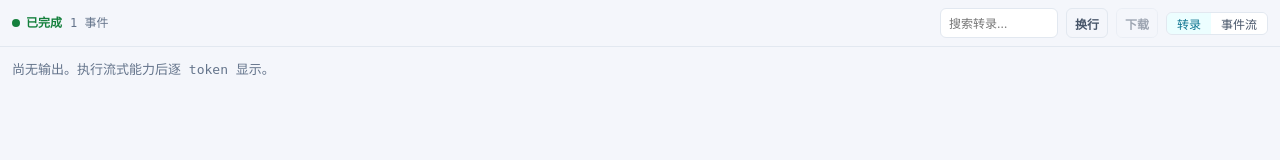
Scenario: SseConsole › 切到事件流后按顺序展示原始命名事件，空 token 时下载禁用
Step 1. Click the tab "事件流" → coordinates (1239, 23), box [1211,12,1267,34]
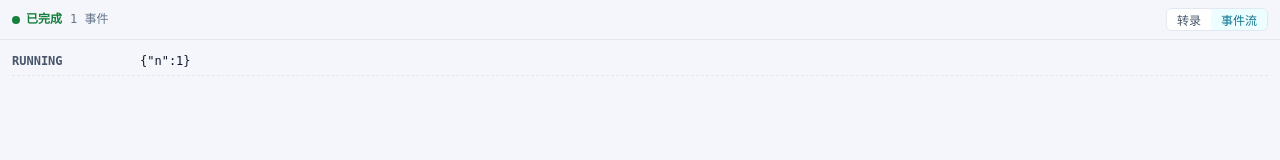
Now the list with class "sse__events" shows "RUNNING", box [12,54,63,68]
